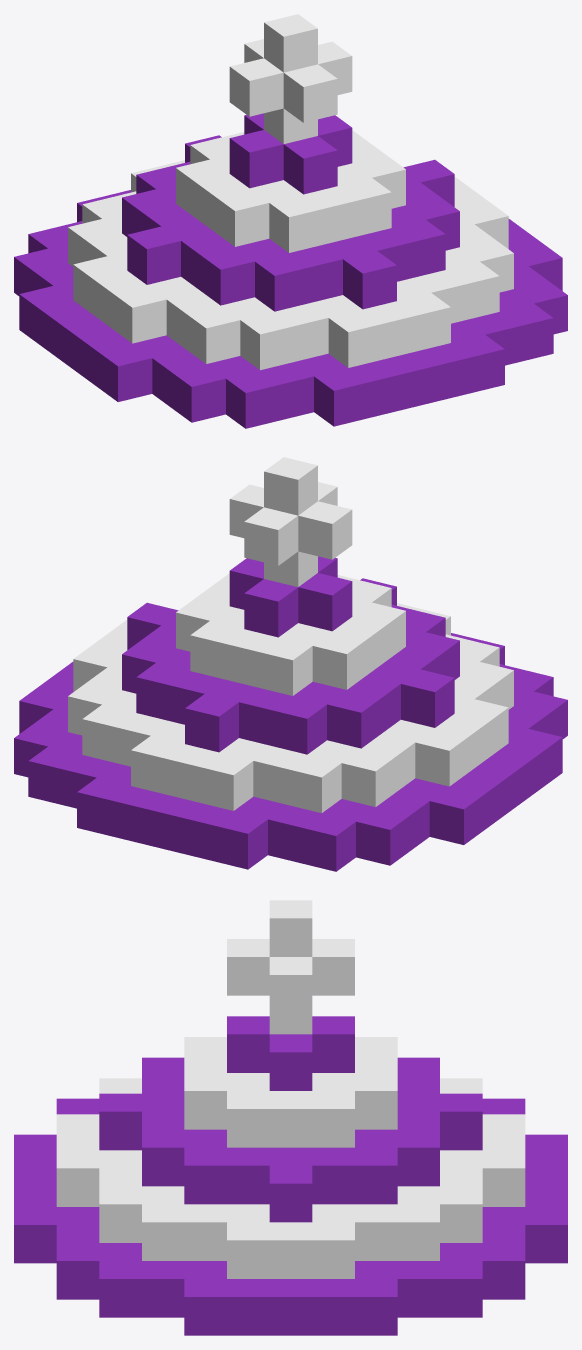
File: shizijia.obj
3 views of the same model, one above another, from view 1: azimuth 30°, elevation 25°; view 2: azimuth 150°, elevation 25°; view 3: azimuth 270°, elevation 25° (orthographic). The views are drawn at different scales.
Visible parts, largest first — view 1: shizijia; view 2: shizijia; view 3: shizijia.
Boxes of the visible parts, box(x1,y1,x2,y2) form: shizijia: box(14, 14, 567, 428); shizijia: box(14, 457, 567, 871); shizijia: box(14, 900, 567, 1335).
Bounding box in the file's own units: 13 × 8 × 13.
1 material, 1 textured.
